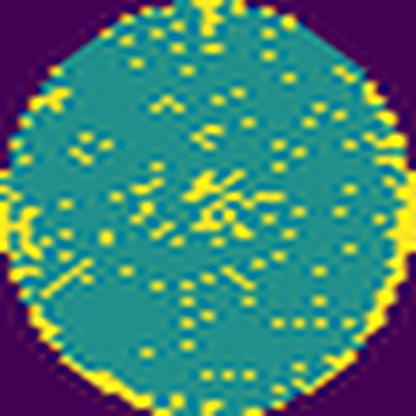Edge-Loc: (352, 80, 416, 344), (0, 178, 46, 265)
